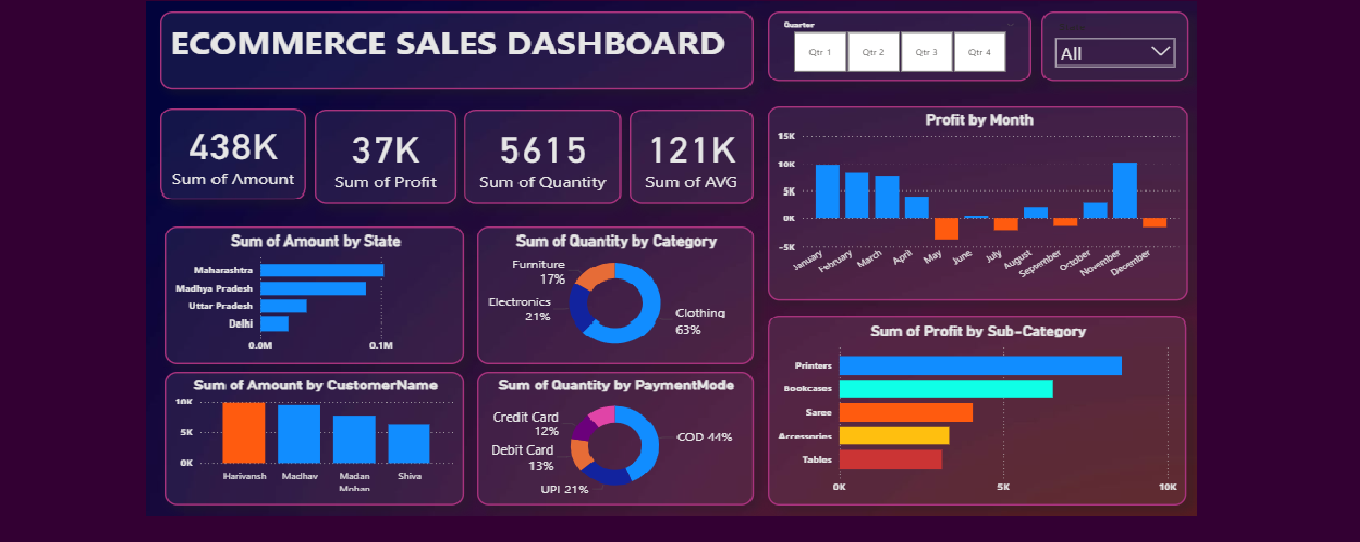

The dashboard page shown, as its layout file describes it:
{"tool":"powerbi","page":{"name":"Page 1","canvas":[1280,720],"ordinal":0},"visuals":[{"type":"textbox","box":[20,20,720,105.7],"z":0},{"type":"columnChart","title":"Profit by Month","fields":{"Y":["Sum(Details.Profit)"],"Category":["Orders.Order Date.Variation.Date Hierarchy.Month"]},"box":[757.1,148.6,511.4,268.6],"z":1000},{"type":"barChart","fields":{"Category":["Details.Sub-Category"],"Y":["Sum(Details.Profit)"]},"box":[757.1,440,508.6,260],"z":2000},{"type":"donutChart","fields":{"Category":["Details.Category"],"Y":["Sum(Details.Quantity)"]},"box":[404.3,315.7,335.7,190],"z":3000},{"type":"donutChart","fields":{"Category":["Details.PaymentMode"],"Y":["Sum(Details.Quantity)"]},"box":[404.3,515.7,335.7,184.3],"z":4000},{"type":"card","fields":{"Values":["Sum(Details.Amount)"]},"box":[20,151.4,177.1,125.7],"z":5000},{"type":"card","fields":{"Values":["Sum(Details.Quantity)"]},"box":[388.6,152.9,191.4,131.4],"z":6000},{"type":"card","fields":{"Values":["Sum(Details.Profit)"]},"box":[207.1,152.9,172.9,131.4],"z":7000},{"type":"card","fields":{"Values":["Sum(Details.AVG)"]},"box":[590,152.9,150,131.4],"z":8000},{"type":"barChart","fields":{"Y":["Sum(Details.Amount)"],"Category":["Orders.State"]},"box":[25.7,315.7,362.9,190],"z":9000},{"type":"columnChart","fields":{"Category":["Orders.CustomerName"],"Y":["Sum(Details.Amount)"]},"box":[25.7,515.7,362.9,184.3],"z":10000},{"type":"slicer","fields":{"Values":["Orders.Order Date.Variation.Date Hierarchy.Quarter"]},"box":[757.5,20,320,95],"z":11000},{"type":"slicer","fields":{"Values":["Orders.State"]},"box":[1090,20,178.8,95],"z":12000}]}

Visuals, with their boxes on the page's 1280x720 design canvas (x1, y1, x2, y2). These are canvas units, not pixel positions in the 1360x542 screenshot, which may show the page scaled, cropped or inside an application window:
textbox: <region>20, 20, 740, 126</region>
"Profit by Month" columnChart: <region>757, 149, 1268, 417</region>
barChart - Details.Sub-Category x Sum(Details.Profit): <region>757, 440, 1266, 700</region>
donutChart - Details.Category x Sum(Details.Quantity): <region>404, 316, 740, 506</region>
donutChart - Details.PaymentMode x Sum(Details.Quantity): <region>404, 516, 740, 700</region>
card - Sum(Details.Amount): <region>20, 151, 197, 277</region>
card - Sum(Details.Quantity): <region>389, 153, 580, 284</region>
card - Sum(Details.Profit): <region>207, 153, 380, 284</region>
card - Sum(Details.AVG): <region>590, 153, 740, 284</region>
barChart - Sum(Details.Amount) x Orders.State: <region>26, 316, 389, 506</region>
columnChart - Orders.CustomerName x Sum(Details.Amount): <region>26, 516, 389, 700</region>
slicer - Orders.Order Date.Variation.Date Hierarchy.Quarter: <region>758, 20, 1078, 115</region>
slicer - Orders.State: <region>1090, 20, 1269, 115</region>
